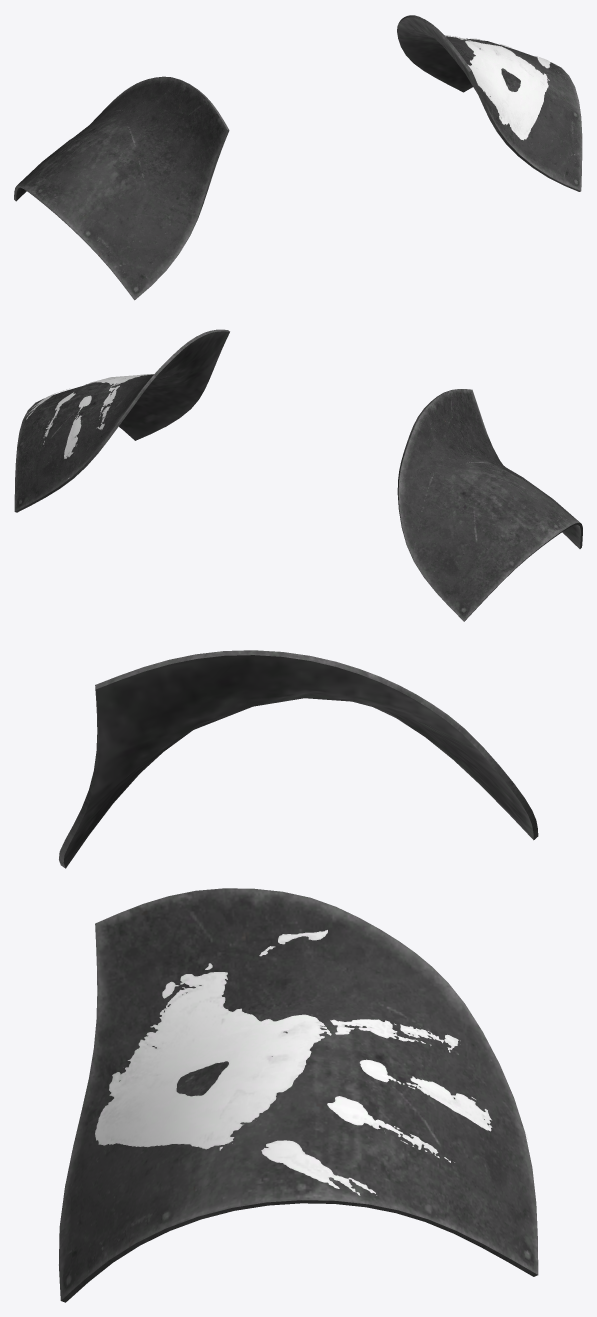
File: sk_uruk_hai_pauldron_light_a2.fbx
The picture shows the model from 3 angles, top to bottom: view 1: azimuth 30°, elevation 25°; view 2: azimuth 150°, elevation 25°; view 3: azimuth 270°, elevation 25°; orthographic projection. The views are drawn at different scales.
Parts seen in each view (by area): view 1: sk_uruk_hai_pauldron_light_a2.0, sk_uruk_hai_pauldron_light_a2.1; view 2: sk_uruk_hai_pauldron_light_a2.0, sk_uruk_hai_pauldron_light_a2.1; view 3: sk_uruk_hai_pauldron_light_a2.0, sk_uruk_hai_pauldron_light_a2.1.
Boxes of the visible parts, bbox=[...] form: sk_uruk_hai_pauldron_light_a2.0: bbox=[14, 15, 582, 300]; sk_uruk_hai_pauldron_light_a2.1: bbox=[444, 35, 550, 140]; sk_uruk_hai_pauldron_light_a2.0: bbox=[14, 329, 582, 621]; sk_uruk_hai_pauldron_light_a2.1: bbox=[26, 368, 159, 478]; sk_uruk_hai_pauldron_light_a2.0: bbox=[59, 650, 538, 1302]; sk_uruk_hai_pauldron_light_a2.1: bbox=[95, 930, 528, 1195].
Size of the model in its own units: 0.5964 by 0.2364 by 0.1715.
Materials: 2 (2 with a texture image).
